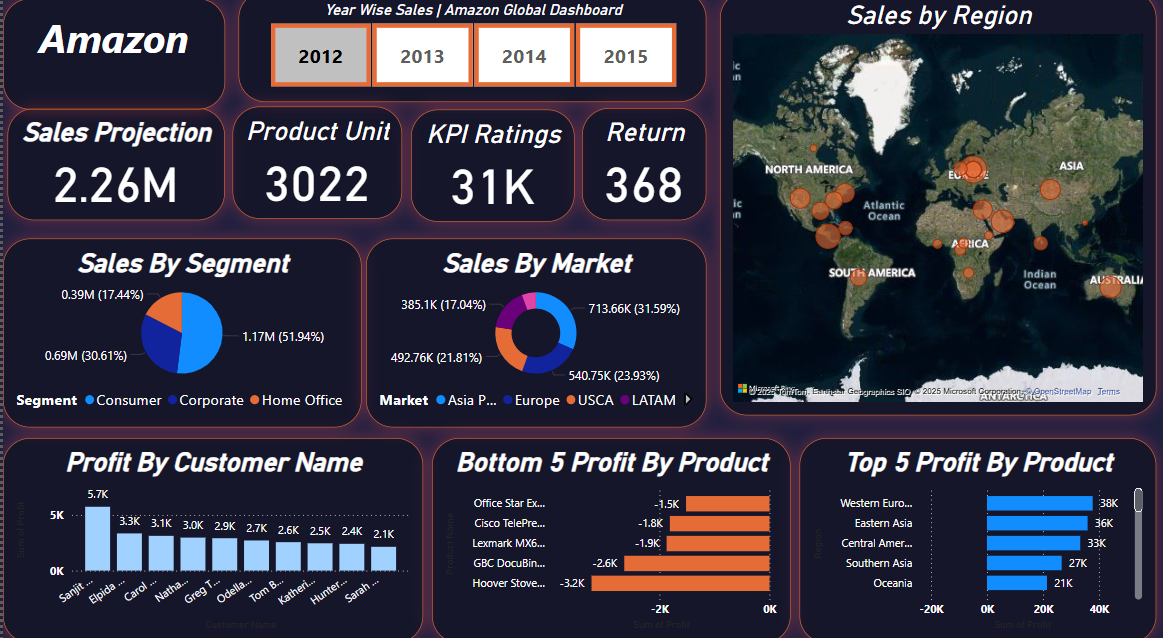

The dashboard page shown, as its layout file describes it:
{"tool":"powerbi","page":{"name":"Report 2","canvas":[1280,720],"ordinal":1},"visuals":[{"type":"slicer","title":"Year Wise Sales | Amazon Global Dashboard","fields":{"Values":["Orders.Year"]},"box":[245.2,6.6,531.7,122.6],"z":0},{"type":"card","title":"Product Unit","fields":{"Values":["Orders.Product Name"]},"box":[245.7,147.4,190.5,124.2],"z":1000},{"type":"card","title":"Sales Projection","fields":{"Values":["Orders.Sales"]},"box":[0,147.4,240.2,124.2],"z":2000},{"type":"card","title":"KPI Ratings","fields":{"Values":["Orders.Quantity"]},"box":[441.7,147.4,178.9,124.2],"z":3000},{"type":"card","title":"Return","fields":{"Values":["Orders.Ship Date"]},"box":[626.1,147.4,150.7,124.2],"z":4000},{"type":"pieChart","title":"Sales By Segment","fields":{"Y":["Orders.Sales"],"Category":["Orders.Segment"]},"box":[0,289.9,395.9,208.7],"z":5000},{"type":"donutChart","title":"Sales By Market","fields":{"Category":["Orders.Market"],"Y":["Orders.Sales"]},"box":[400.9,289.9,376,208.7],"z":6000},{"type":"columnChart","title":"Profit By Customer Name","fields":{"Category":["Orders.Customer Name"],"Y":["Orders.Profit"]},"box":[0,510.2,463.8,210.4],"z":7000},{"type":"clusteredBarChart","title":"Bottom 5 Profit By Product","fields":{"Y":["Orders.Profit"],"Category":["Orders.Product Name"]},"box":[473.8,510.2,395.9,210.4],"z":8000},{"type":"clusteredBarChart","title":"Top 5 Profit By Product","fields":{"Y":["Orders.Profit"],"Category":["Orders.Region"]},"box":[879.6,510.2,394.2,210.4],"z":9000},{"type":"map","title":"Sales by Region","fields":{"Category":["Orders.Region"],"Size":["Orders.Sales"]},"box":[791.8,6.6,482,492],"z":10000},{"type":"textbox","box":[0,6.6,240.2,122.6],"z":11000}]}

Visuals, with their boxes in screenshot pixels (x1, y1, x2, y2), scaled from the page's 1280x720 canvas onto the 1163x638 screenshot:
"Year Wise Sales | Amazon Global Dashboard" slicer: region(223, 6, 706, 114)
"Product Unit" card: region(223, 131, 396, 241)
"Sales Projection" card: region(0, 131, 218, 241)
"KPI Ratings" card: region(401, 131, 564, 241)
"Return" card: region(569, 131, 706, 241)
"Sales By Segment" pieChart: region(0, 257, 360, 442)
"Sales By Market" donutChart: region(364, 257, 706, 442)
"Profit By Customer Name" columnChart: region(0, 452, 421, 637)
"Bottom 5 Profit By Product" clusteredBarChart: region(430, 452, 790, 637)
"Top 5 Profit By Product" clusteredBarChart: region(799, 452, 1157, 637)
"Sales by Region" map: region(719, 6, 1157, 442)
textbox: region(0, 6, 218, 114)
